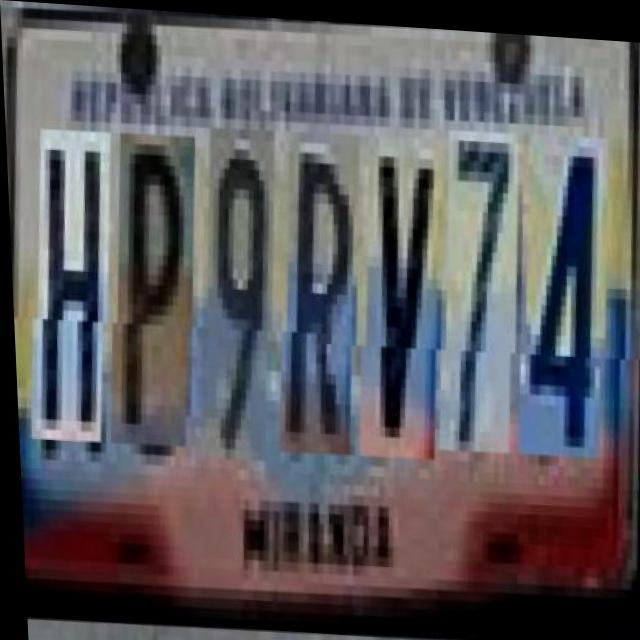4: (514, 127, 621, 454)
7: (434, 124, 531, 450)
9: (194, 124, 287, 461)
h: (27, 127, 122, 444)
p: (107, 130, 207, 447)
r: (275, 127, 371, 453)
v: (355, 131, 456, 457)
